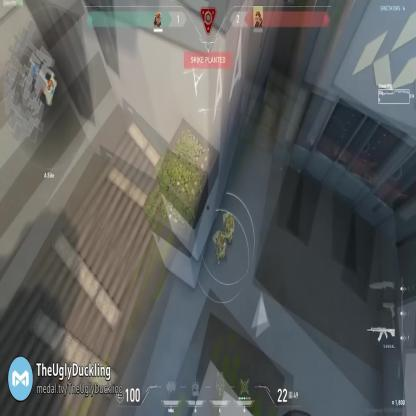enemy: (212, 228, 225, 264), (223, 210, 234, 247)
enemy_head: (227, 217, 232, 226), (219, 235, 224, 243)
